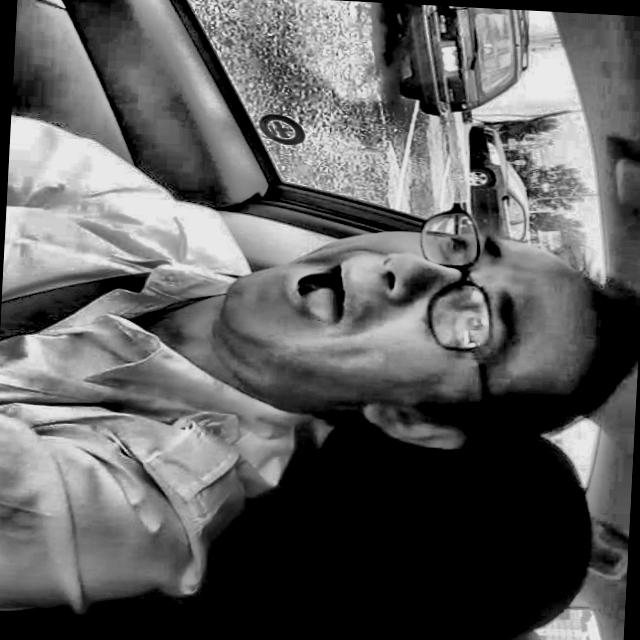open_eyes: (418, 212, 481, 266), (427, 290, 488, 345)
open_mouth: (267, 253, 361, 337)
